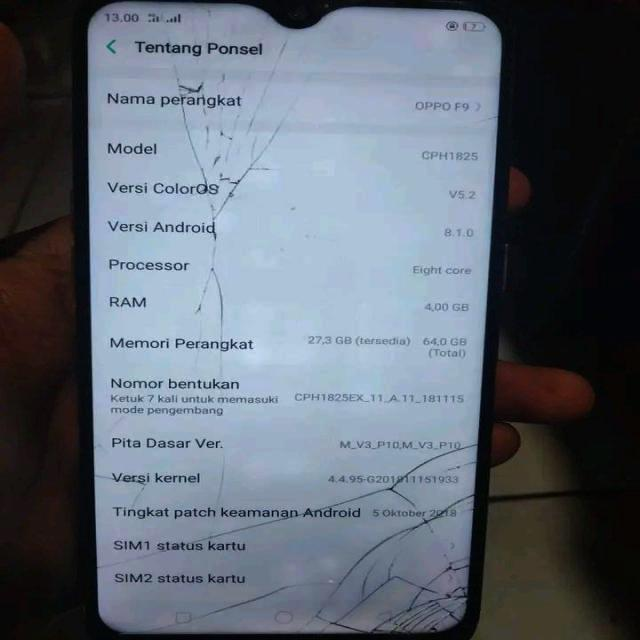phone: (79, 2, 477, 640)
